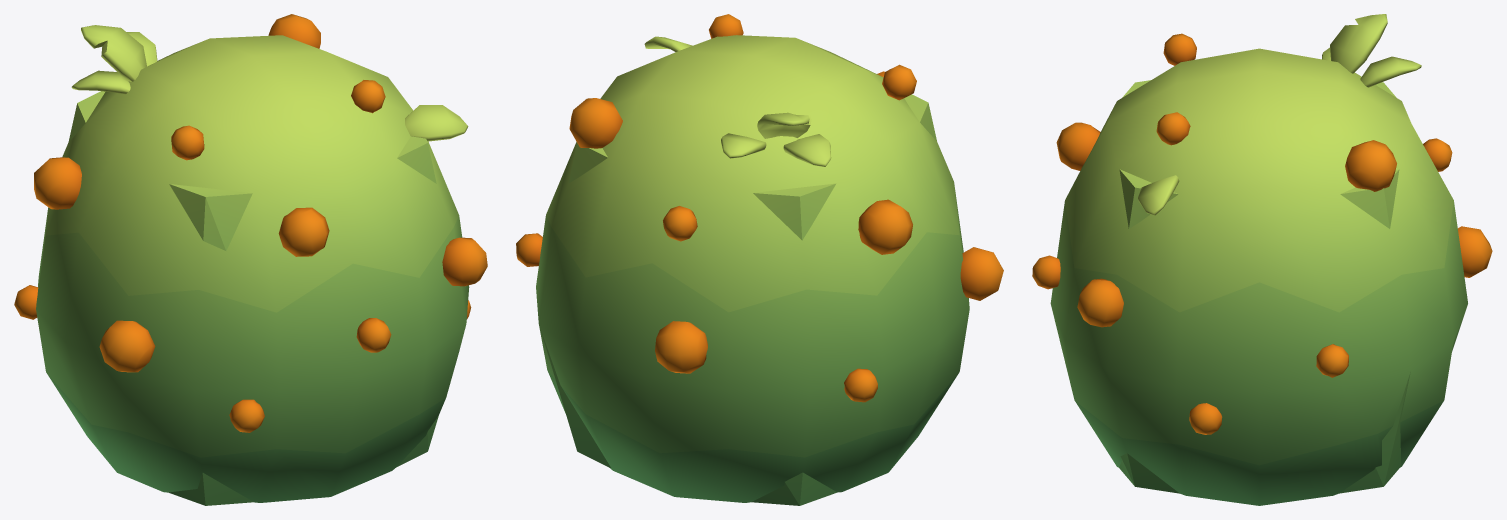
File: bush 03.fbx
3 views of the same model, side by side, from view 1: azimuth 30°, elevation 25°; view 2: azimuth 150°, elevation 25°; view 3: azimuth 270°, elevation 25° (orthographic). The views are drawn at different scales.
Parts seen in each view (by area): view 1: bush 03, bush 03 low; view 2: bush 03, bush 03 low; view 3: bush 03, bush 03 low.
Boxes of the visible parts, left/top/right/bottom form: bush 03: left=14, top=14, right=487, bottom=502; bush 03 low: left=68, top=91, right=438, bottom=505; bush 03: left=516, top=14, right=1003, bottom=502; bush 03 low: left=540, top=94, right=936, bottom=505; bush 03: left=1032, top=14, right=1492, bottom=505; bush 03 low: left=1119, top=80, right=1410, bottom=493.
Bounding box in the file's own units: 177 × 173 × 185.
Materials: 1 (1 with a texture image).
